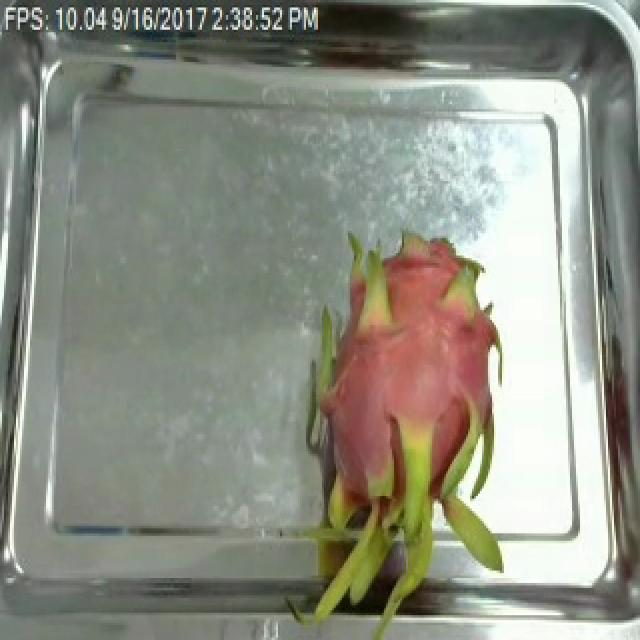fruit: (274, 223, 546, 640)
